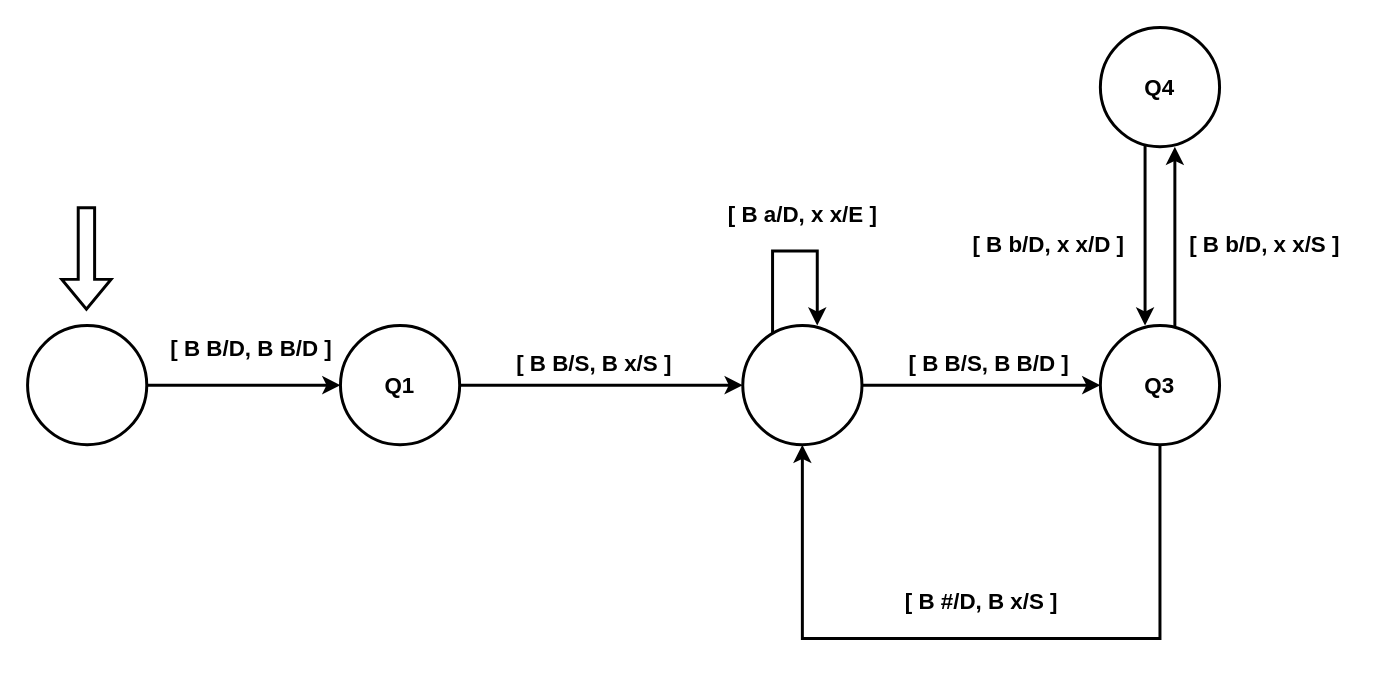
This 1378x676 diagram has some shape labels left out. The centre of each missing label's shape, as x and y in pixels:
Q0: point (86, 384)
Q2: point (802, 384)
